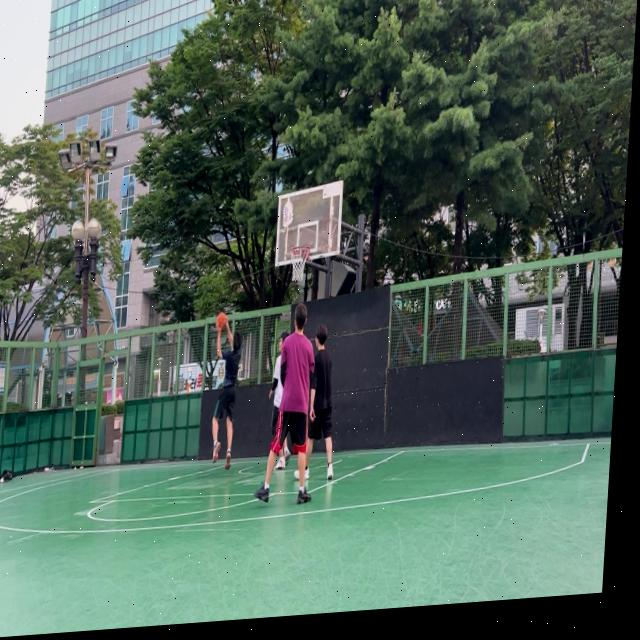basketball: (216, 312, 227, 330)
hoop: (287, 245, 311, 282)
